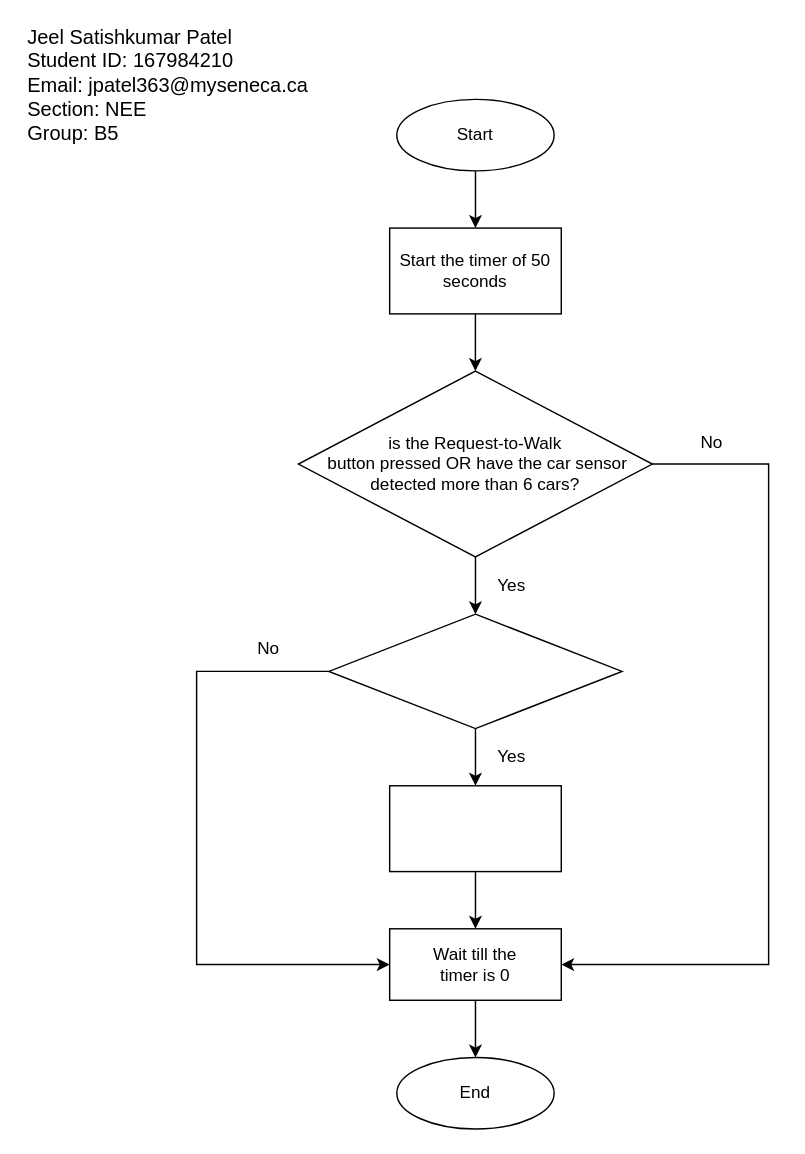
Image size: 805x1154. Some labels were removed from this diagram. Each missing label, with the box of its shape:
is the timer more than 20 seconds?: (327, 613, 622, 729)
Set the timer to 20 seconds: (388, 784, 561, 872)
